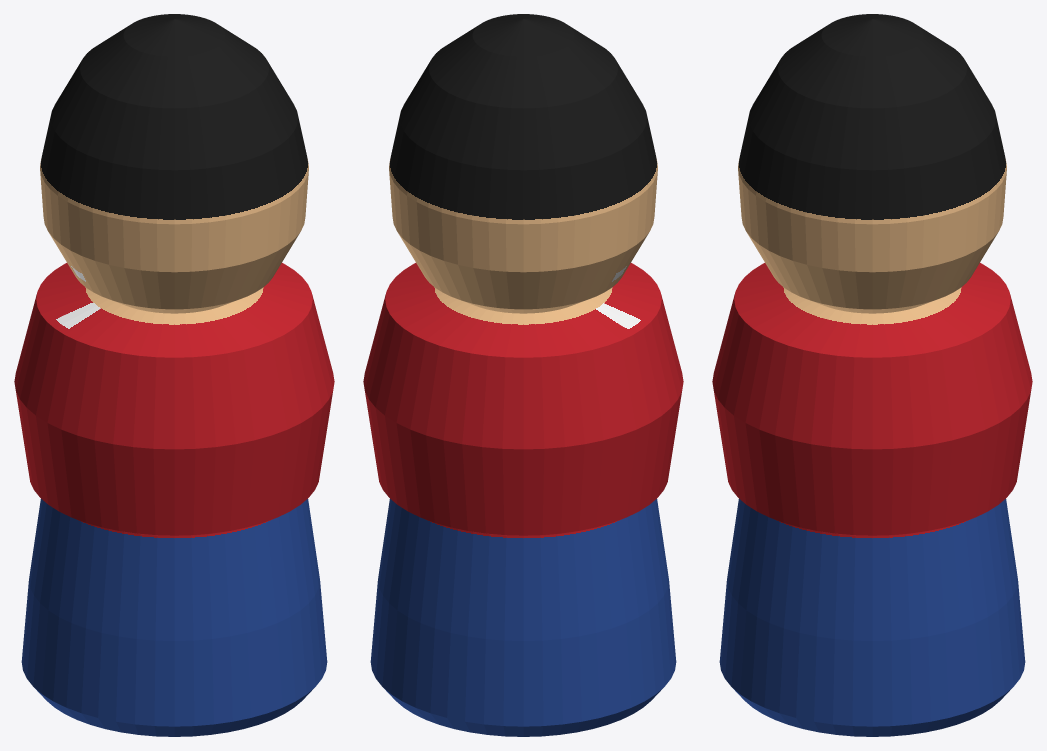
File: colour-figure.glb
3 renders of one model, left to right at view 1: azimuth 30°, elevation 25°; view 2: azimuth 150°, elevation 25°; view 3: azimuth 270°, elevation 25°, orthographic.
Bounding box in the file's own units: 0.88 × 2 × 0.88.
1 material, 1 textured.
